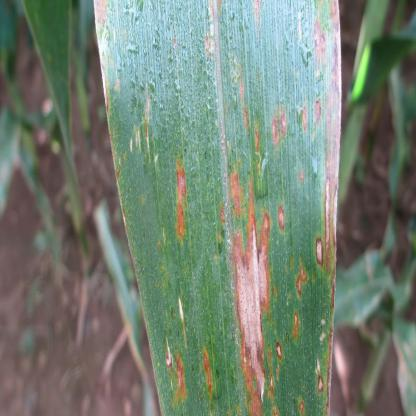corn gray leaf spot: (87, 3, 346, 415)
